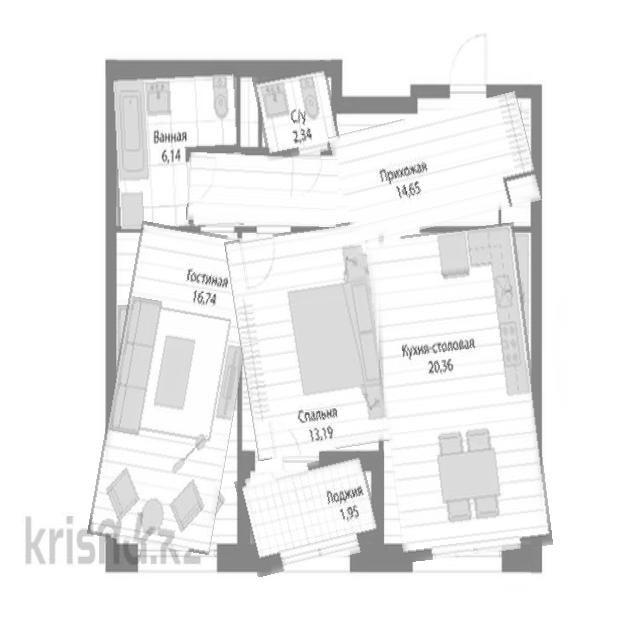balcony: (239, 457, 379, 570)
bathroom: (109, 64, 238, 230), (255, 63, 338, 159)
hallway: (334, 102, 537, 236), (187, 154, 338, 225)
kitchen: (374, 226, 544, 559)
living_room: (101, 225, 251, 551), (233, 226, 385, 457)
